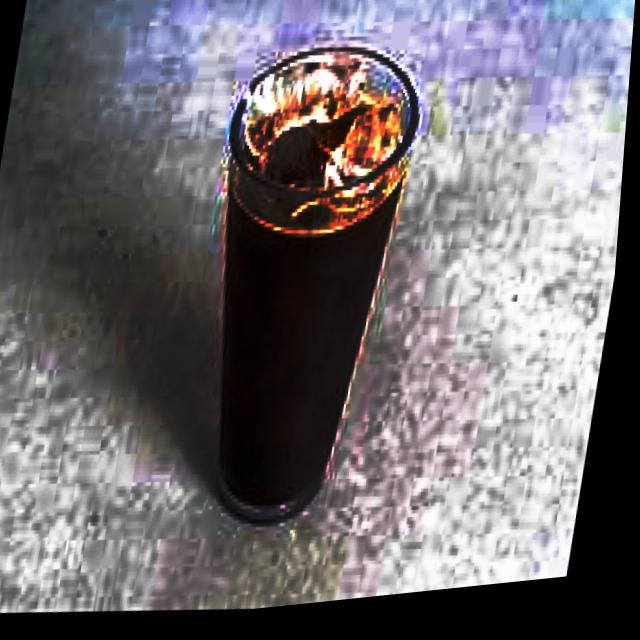drink: (214, 40, 416, 507)
